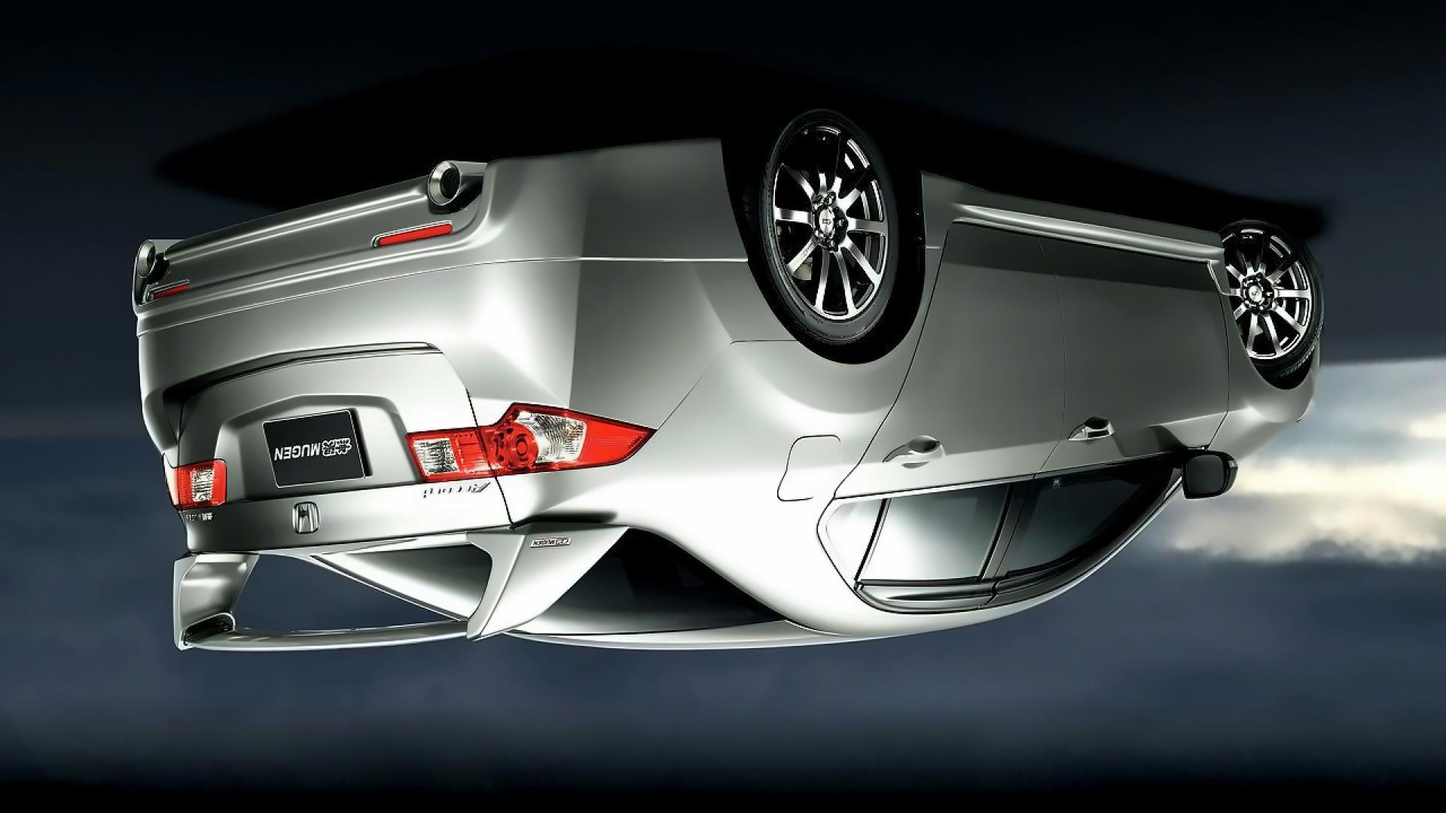Car boot: (165, 333, 516, 562)
Fender - -F-L-: (1201, 287, 1323, 469)
Fender - -R-L-: (605, 208, 956, 518)
Passenger-s door - -F-L-: (982, 158, 1233, 647)
Passenger-s door - -R-L-: (817, 161, 1085, 637)
Rear bumper: (124, 127, 807, 417)
Rear light - -L-: (407, 395, 655, 479)
Rear light - -R-: (167, 453, 231, 513)
Side bumper - -R-: (930, 159, 1224, 307)
Side mirror - -L-: (1155, 423, 1235, 496)
